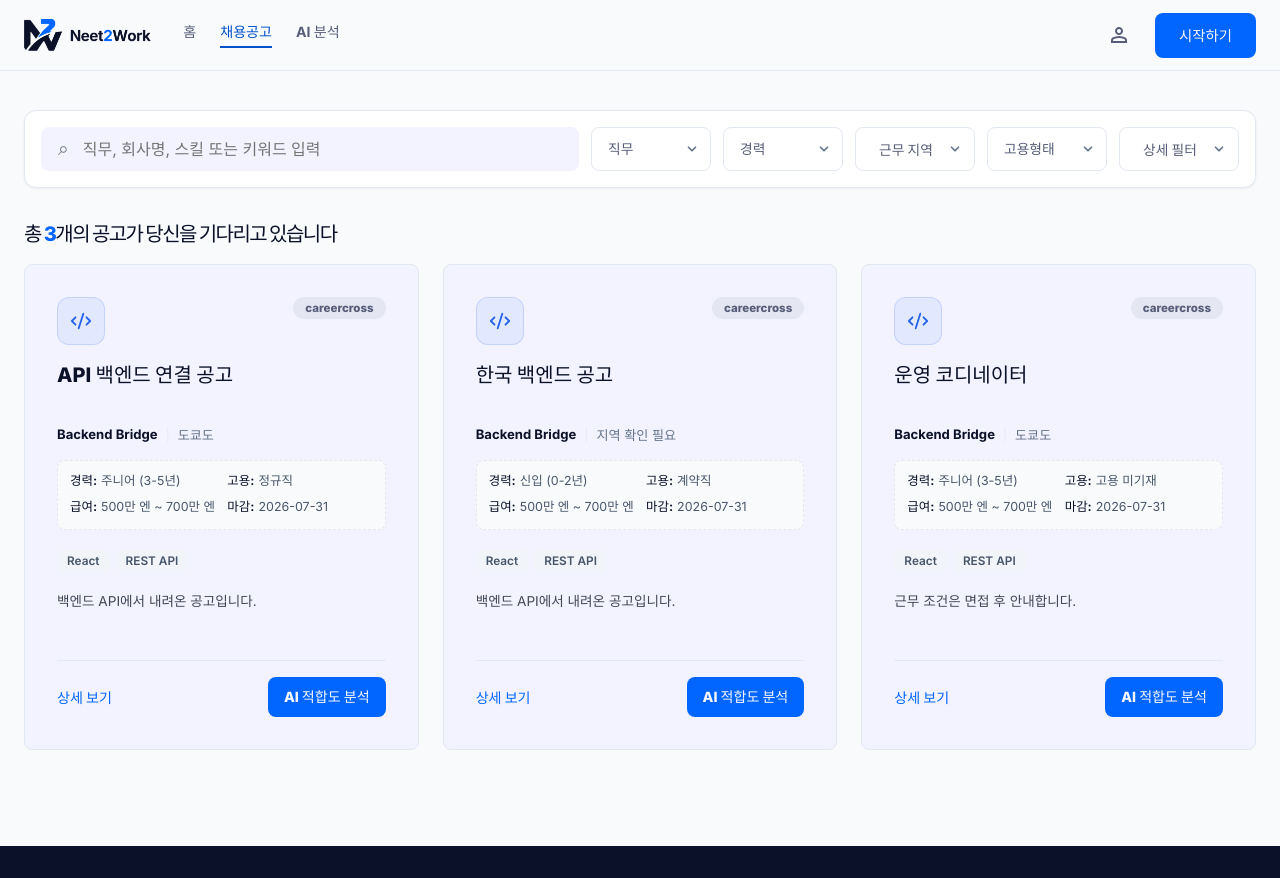
Test: Jobs page backend integration › keeps legacy intern jobs visible when the backend omits employmentTypeCategory
Expected: the heading "API 백엔드 연결 공고" is shown, left=57, top=363, right=233, bottom=387
Select "인턴" in the 3rd dropdown named "고용형태" at (1047, 149), box left=987, top=127, right=1107, bottom=171
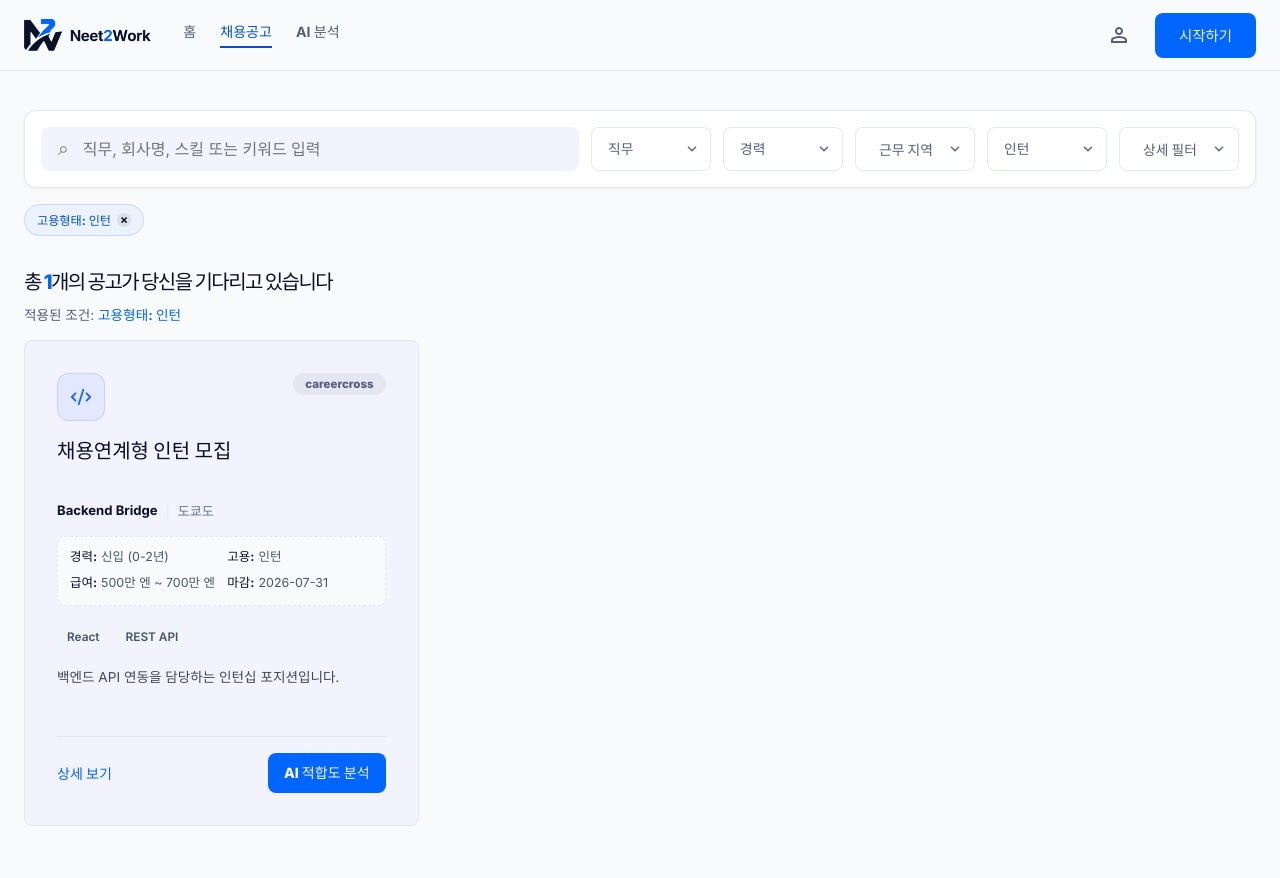
Expected: the heading "채용연계형 인턴 모집" is shown, left=57, top=439, right=231, bottom=463
Expected: the button named "고용형태: 인턴 필터 지우기" is shown, left=117, top=213, right=131, bottom=227
